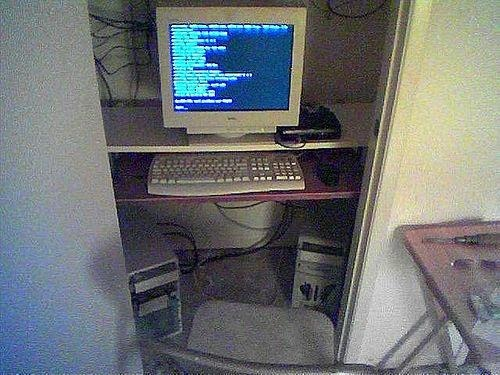tvmonitor: (157, 6, 308, 146)
